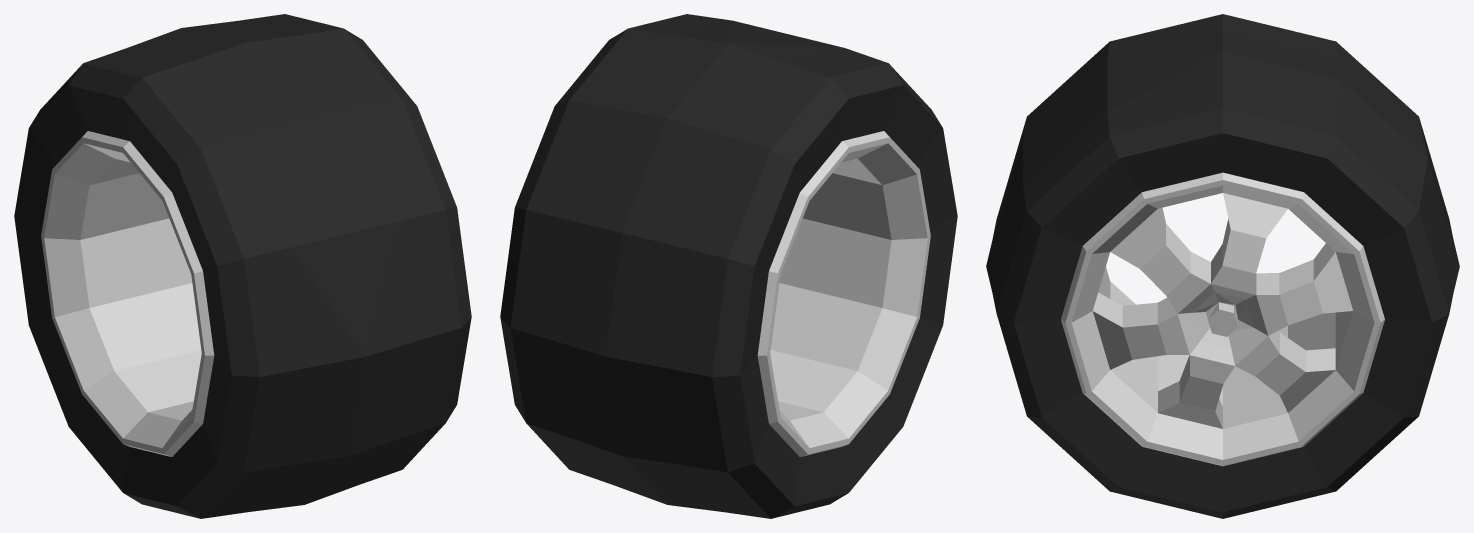
File: tire.glb
3 views of the same model, side by side, from view 1: azimuth 30°, elevation 25°; view 2: azimuth 150°, elevation 25°; view 3: azimuth 270°, elevation 25° (orthographic). The views are drawn at different scales.
Visible parts, largest first — view 1: Tire; view 2: Tire; view 3: Tire.
Part boxes in pixels (x1,y1,x2,y2): Tire: [14, 14, 471, 518]; Tire: [500, 14, 957, 518]; Tire: [986, 14, 1459, 518].
Bounding box in the file's own units: 0.9989 × 1.74 × 1.74.
Materials: 1 (1 with a texture image).
